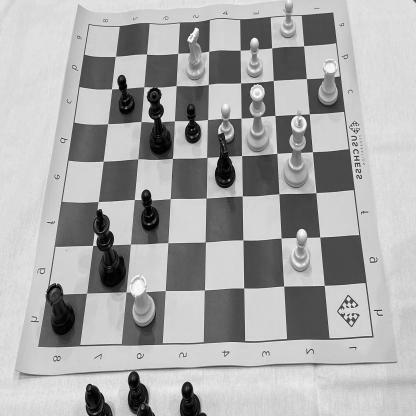black-king: (92, 204, 126, 288)
black-knight: (210, 132, 238, 193)
black-pawn: (138, 187, 161, 234), (183, 101, 204, 146), (115, 73, 136, 117)
black-queen: (146, 83, 172, 156)
black-rook: (46, 278, 76, 336)
white-king: (282, 108, 310, 190)
white-knight: (182, 22, 209, 84)
white-pawn: (288, 226, 313, 277), (244, 34, 266, 81), (216, 100, 236, 145), (278, 0, 299, 41)
white-queen: (242, 78, 272, 157)
white-rook: (128, 268, 160, 328), (316, 55, 342, 107)
